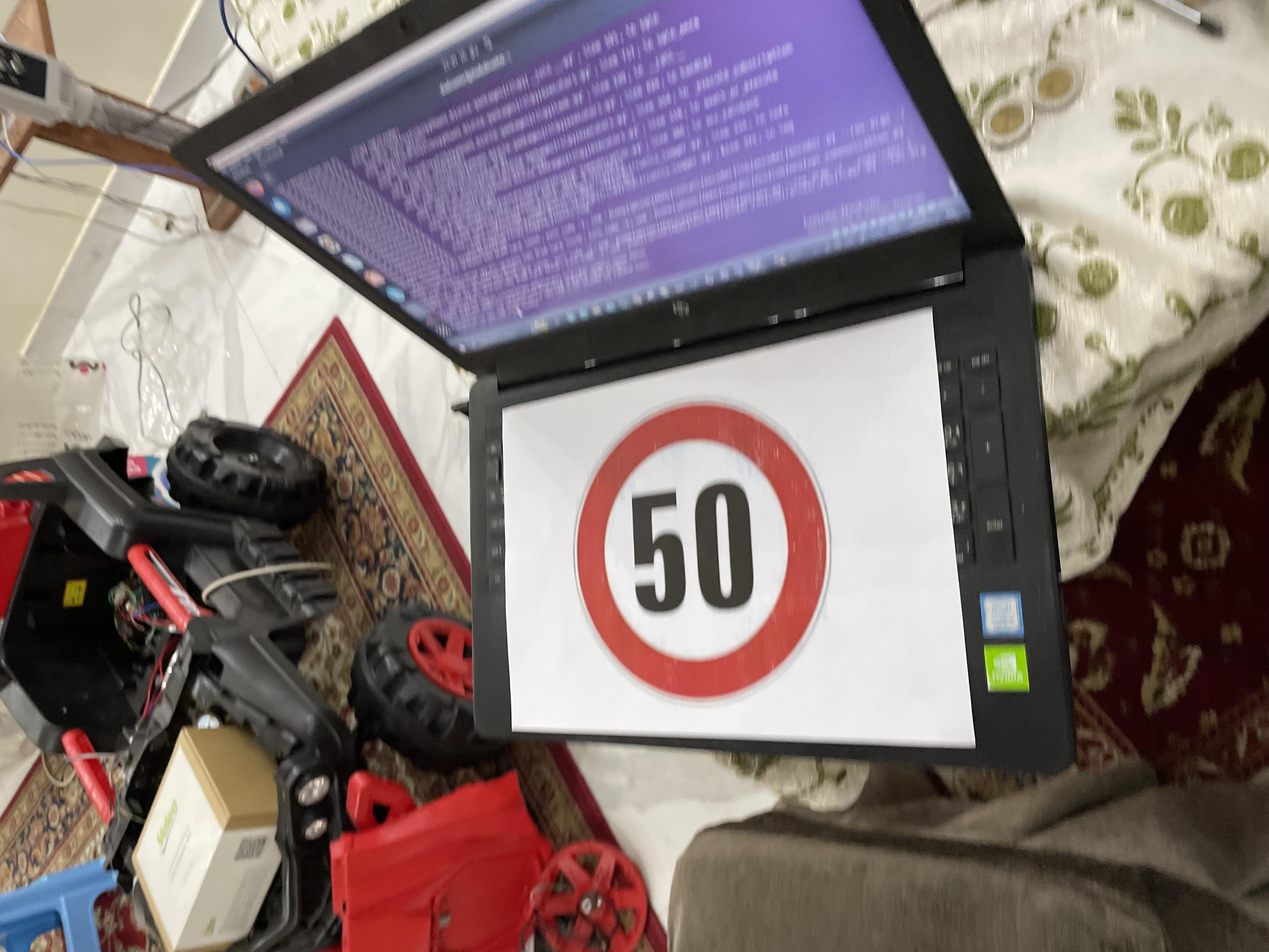50-Speed: (316, 418, 747, 628)
